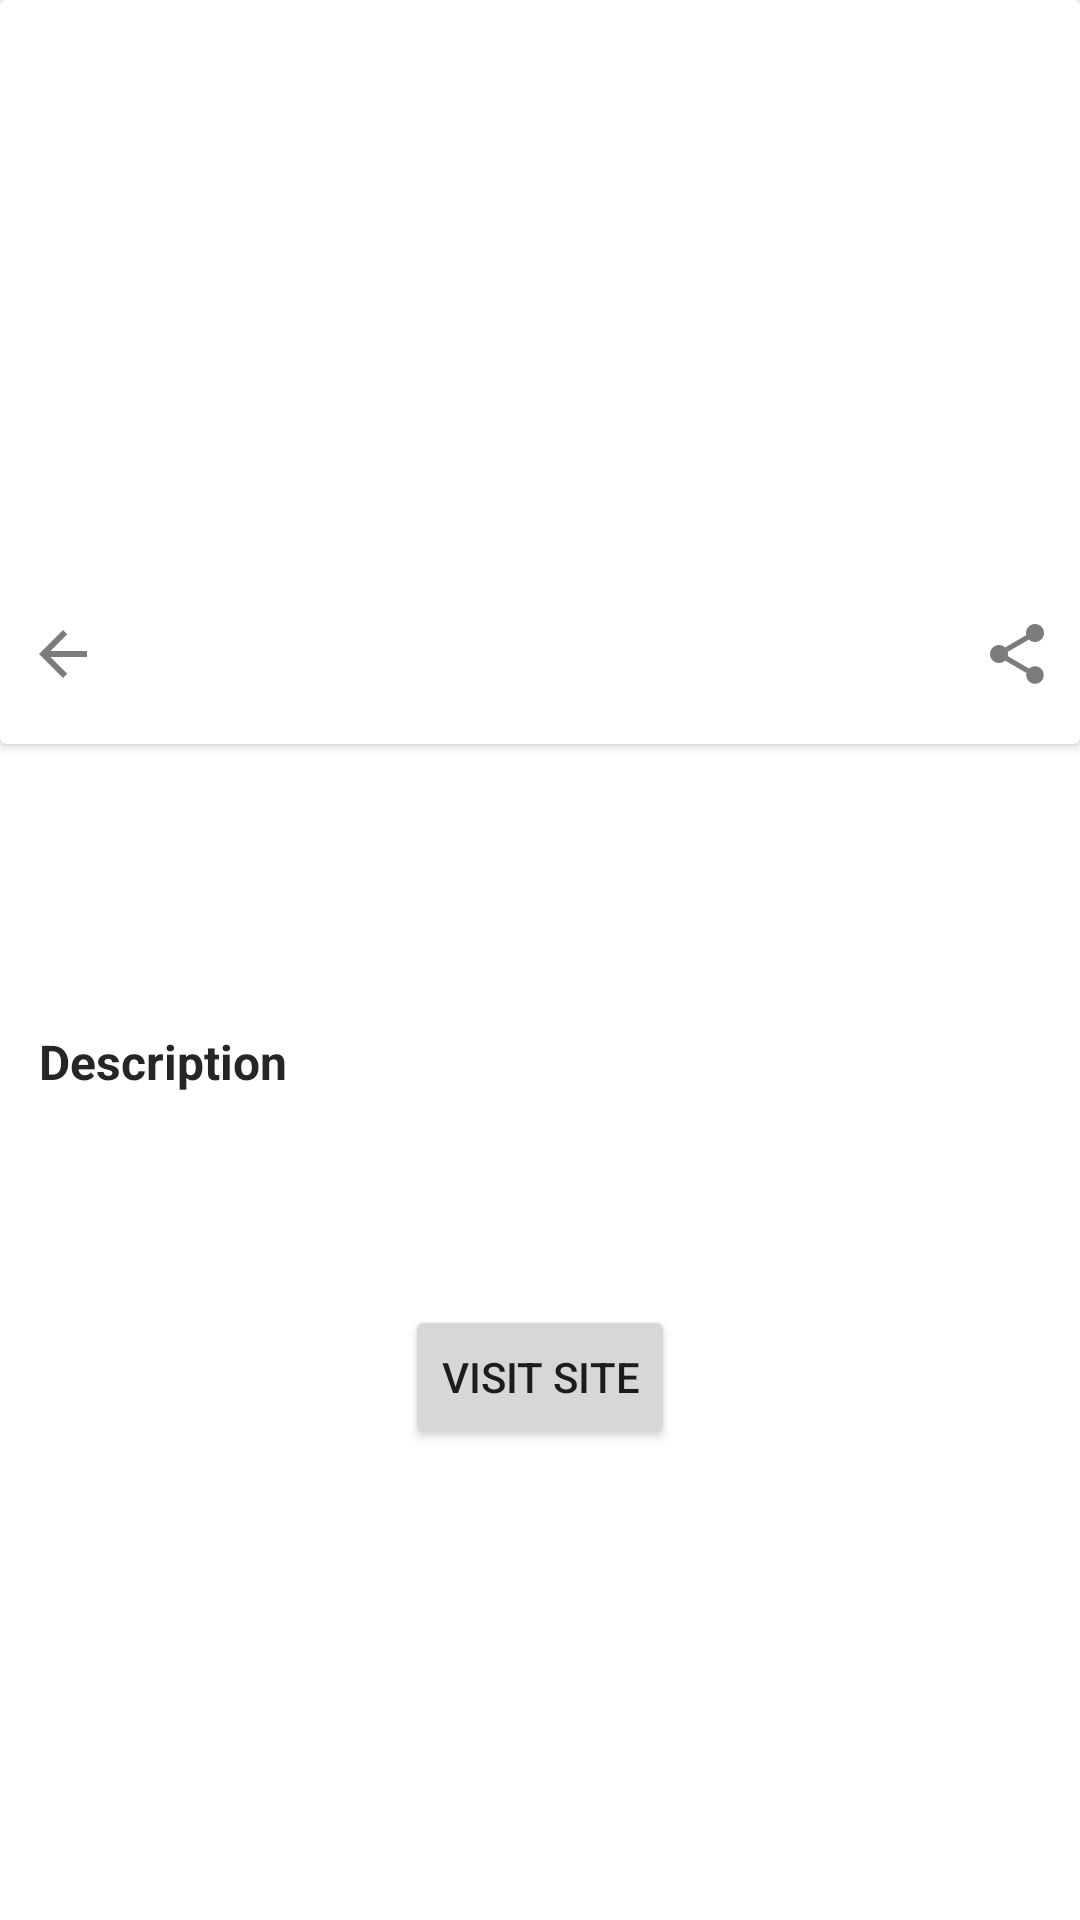

Icon bounding boxes for this 1080×1920 phone screenshot, format (x1, y1, x2, y2):
icon back: (39, 630, 87, 678)
icon share: (990, 624, 1044, 684)
